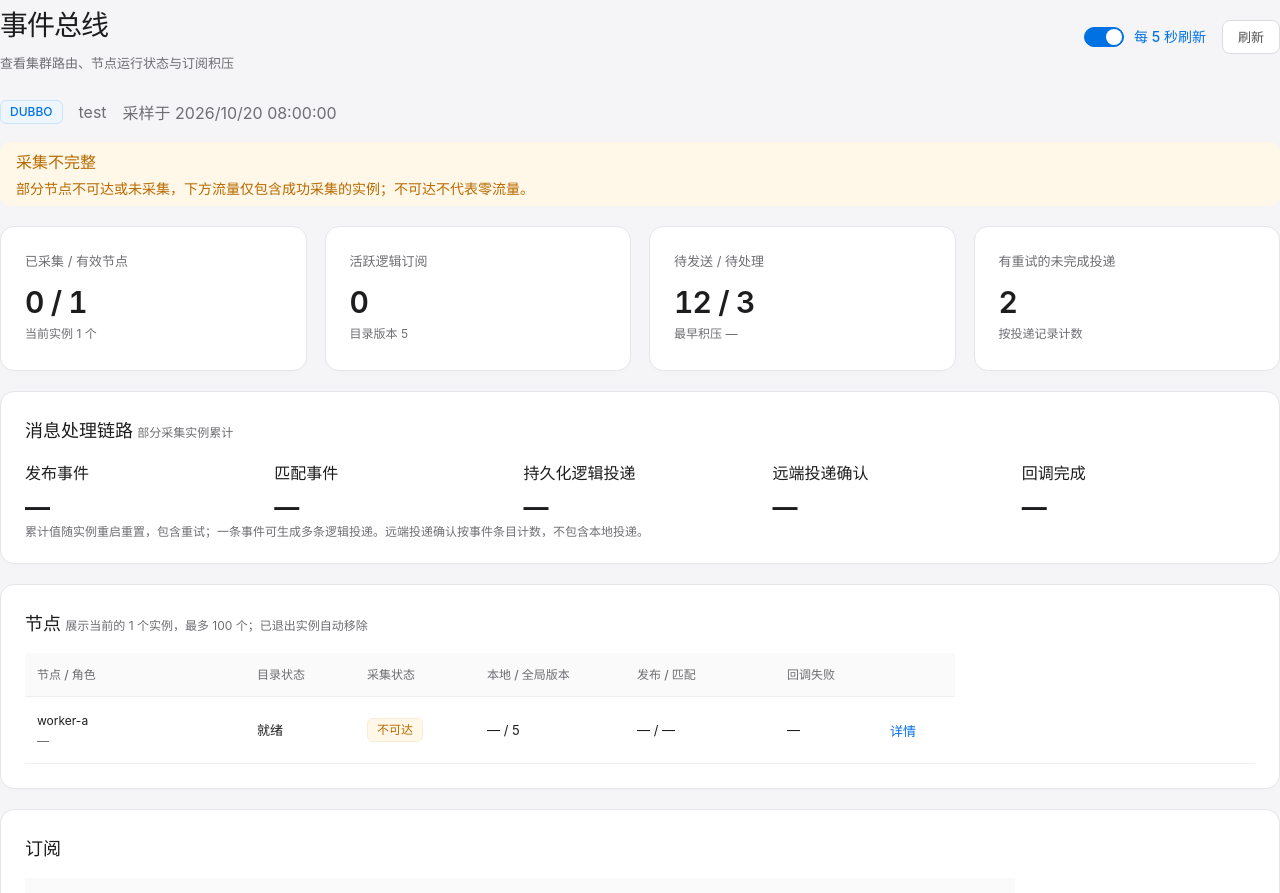
Test: retains the old sample and labels it stale after a refresh failure
Click the button "刷新" at [1251, 37], box [1222, 20, 1279, 54]
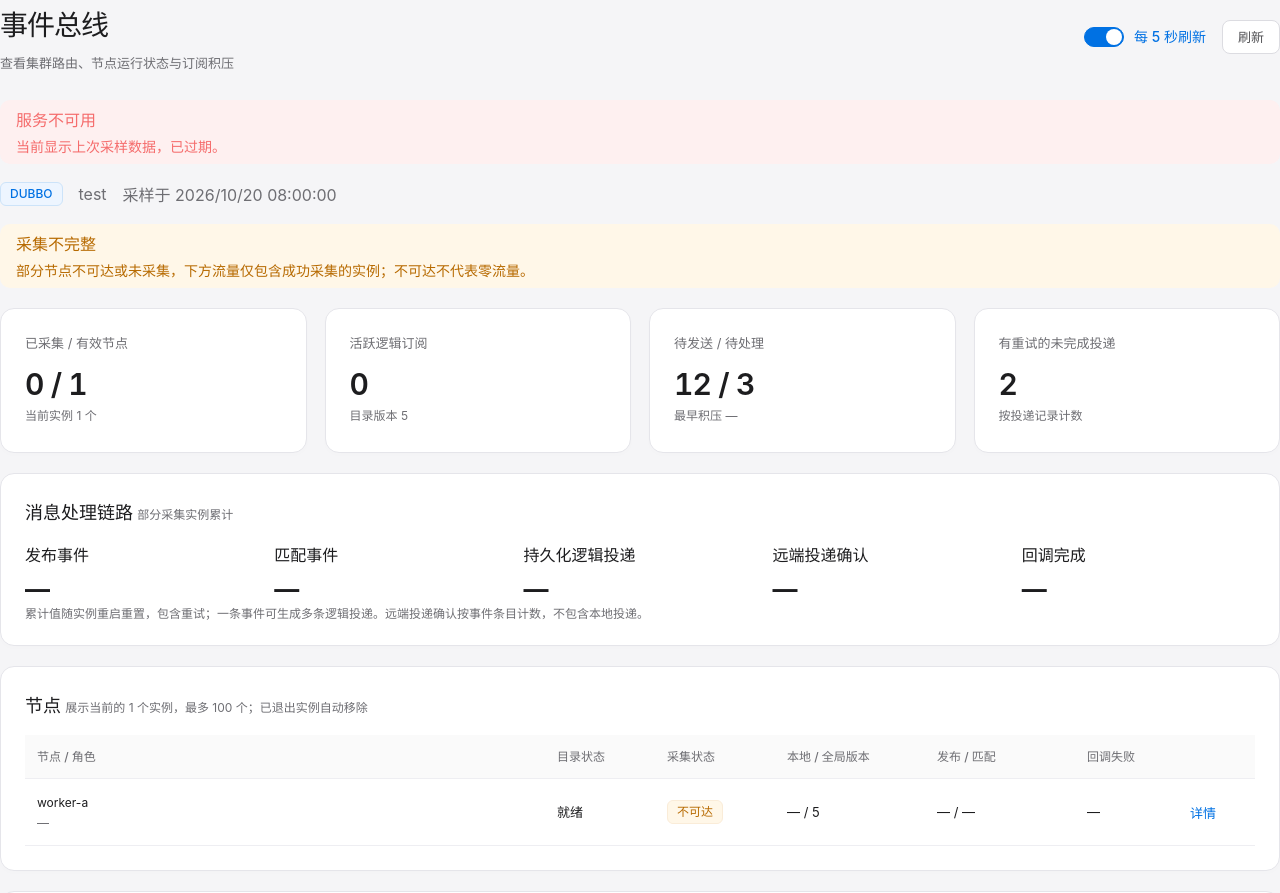
Expected: the text "worker-a" is shown, [37, 796, 88, 810]
Now the text "上次采样数据，已过期" is shown, box [16, 138, 226, 156]
